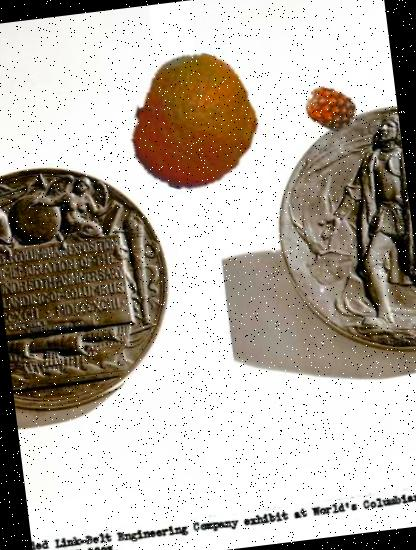Mandarine: (118, 46, 274, 200)
Pineapple: (302, 80, 360, 138)
